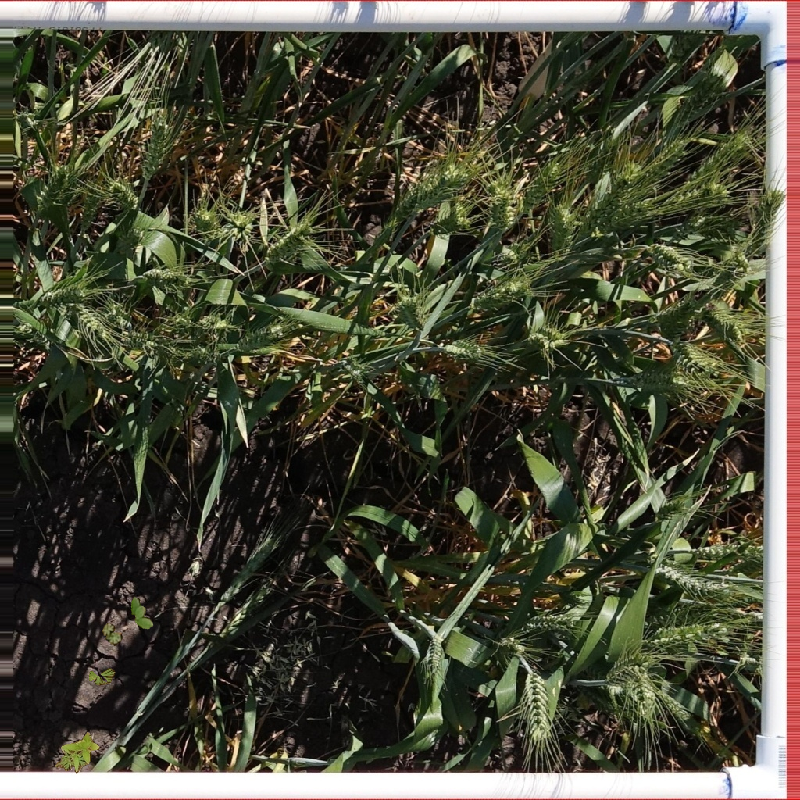spikelet: (398, 155, 473, 216), (650, 555, 737, 600), (689, 128, 749, 191), (515, 666, 556, 740), (647, 612, 726, 650), (636, 133, 691, 185), (468, 271, 533, 313), (519, 156, 564, 215), (749, 187, 787, 255), (137, 112, 173, 179), (652, 294, 706, 337), (710, 300, 765, 342), (263, 222, 314, 266), (33, 162, 74, 216), (624, 662, 660, 720), (690, 536, 759, 563), (643, 241, 694, 277), (235, 320, 288, 354), (485, 177, 518, 230), (65, 300, 110, 338), (165, 310, 232, 335), (547, 201, 578, 254), (388, 288, 428, 329), (216, 208, 257, 247), (678, 339, 725, 373), (399, 367, 446, 400), (525, 605, 580, 632), (143, 264, 192, 293), (103, 175, 141, 212), (422, 211, 471, 238), (657, 685, 692, 722), (442, 333, 488, 359), (38, 282, 87, 306), (528, 323, 567, 349), (183, 345, 216, 367)
weed: (48, 729, 104, 768), (126, 593, 154, 633), (86, 660, 118, 691), (102, 623, 123, 646)
